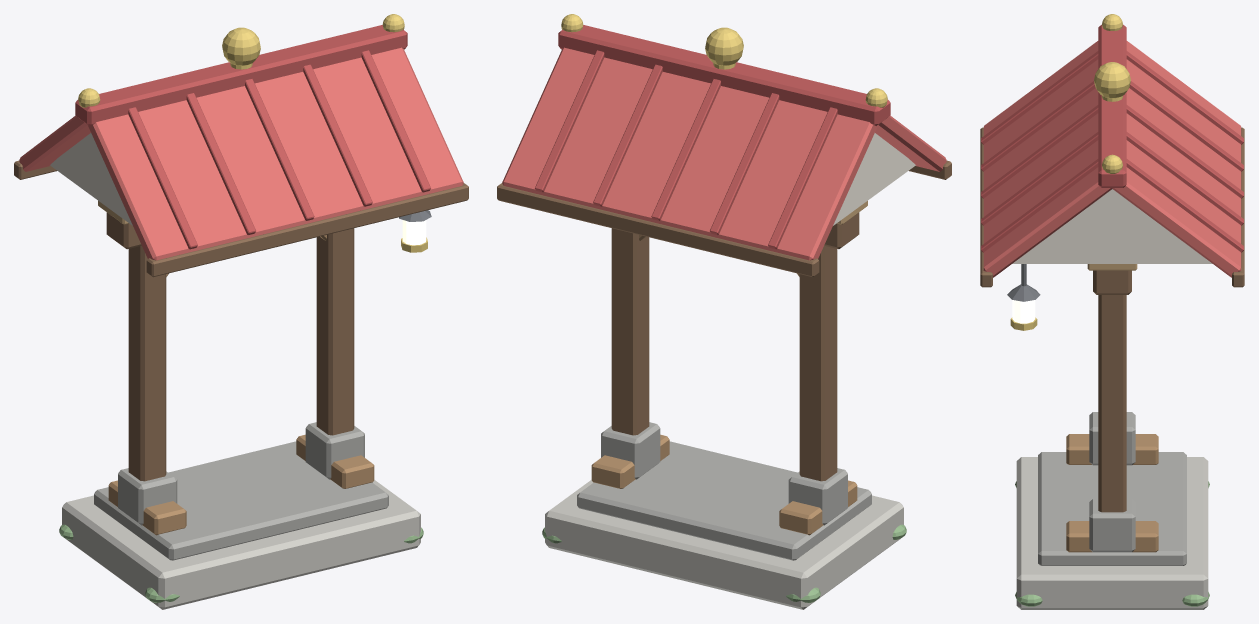
Rendered from parade-bell.glb.
3 views of the same model, side by side, from view 1: azimuth 30°, elevation 25°; view 2: azimuth 150°, elevation 25°; view 3: azimuth 270°, elevation 25° (orthographic). The views are drawn at different scales.
Visible parts, largest first — view 1: RoofSlope_-1, PedestalLower, PedestalUpper, Pillar_-0.58, RidgeCap, Pillar_0.58, RoofEave_-1, Gable_-0.82, PillarBase_0.58, PillarBase_-0.58, RoofSlope_1, RoofRib_-1_-0.72 (+8 smaller); view 2: RoofSlope_1, PedestalLower, PedestalUpper, Pillar_-0.58, RidgeCap, Pillar_0.58, RoofEave_1, Gable_-0.82, PillarBase_0.58, PillarBase_-0.58, RoofSlope_-1, RoofRib_1_-0.72 (+8 smaller); view 3: RoofSlope_1, RoofSlope_-1, PedestalLower, PedestalUpper, Gable_0.82, Pillar_0.58, RidgeCap, PillarBase_0.58, Foot_0.58, Foot_-0.58, CenterFinial, RoofRib_1_0.72 (+15 smaller).
Boxes of the visible parts, x1=… form: RoofSlope_-1: x1=87, y1=47, x2=463, y2=260; PedestalLower: x1=62, y1=480, x2=420, y2=609; PedestalUpper: x1=94, y1=441, x2=388, y2=560; Pillar_-0.58: x1=128, y1=245, x2=166, y2=481; RidgeCap: x1=75, y1=25, x2=407, y2=125; Pillar_0.58: x1=316, y1=228, x2=354, y2=435; RoofEave_-1: x1=146, y1=183, x2=468, y2=277; Gable_-0.82: x1=50, y1=133, x2=132, y2=225; PillarBase_0.58: x1=305, y1=422, x2=364, y2=479; PillarBase_-0.58: x1=118, y1=468, x2=177, y2=525; RoofSlope_1: x1=19, y1=115, x2=90, y2=171; RoofRib_-1_-0.72: x1=128, y1=107, x2=197, y2=249; RoofSlope_1: x1=502, y1=47, x2=878, y2=260; PedestalLower: x1=545, y1=480, x2=903, y2=609; PedestalUpper: x1=577, y1=441, x2=871, y2=560; Pillar_-0.58: x1=799, y1=245, x2=837, y2=481; RidgeCap: x1=558, y1=25, x2=890, y2=125; Pillar_0.58: x1=611, y1=228, x2=649, y2=435; RoofEave_1: x1=497, y1=183, x2=819, y2=277; Gable_-0.82: x1=833, y1=133, x2=915, y2=225; PillarBase_0.58: x1=601, y1=422, x2=660, y2=479; PillarBase_-0.58: x1=788, y1=468, x2=847, y2=525; RoofSlope_-1: x1=875, y1=115, x2=946, y2=171; RoofRib_1_-0.72: x1=768, y1=107, x2=837, y2=249; RoofSlope_1: x1=1112, y1=41, x2=1241, y2=277; RoofSlope_-1: x1=983, y1=41, x2=1112, y2=277; PedestalLower: x1=1016, y1=457, x2=1208, y2=609; PedestalUpper: x1=1038, y1=452, x2=1186, y2=565; Gable_0.82: x1=1012, y1=189, x2=1212, y2=263; Pillar_0.58: x1=1098, y1=295, x2=1126, y2=512; RidgeCap: x1=1098, y1=24, x2=1126, y2=187; PillarBase_0.58: x1=1089, y1=498, x2=1135, y2=552; Foot_0.58: x1=1066, y1=521, x2=1158, y2=552; Foot_-0.58: x1=1066, y1=434, x2=1158, y2=464; CenterFinial: x1=1094, y1=62, x2=1130, y2=98; RoofRib_1_0.72: x1=1126, y1=159, x2=1243, y2=252.
Size of the model in its own units: 2 by 3.04 by 1.49.
